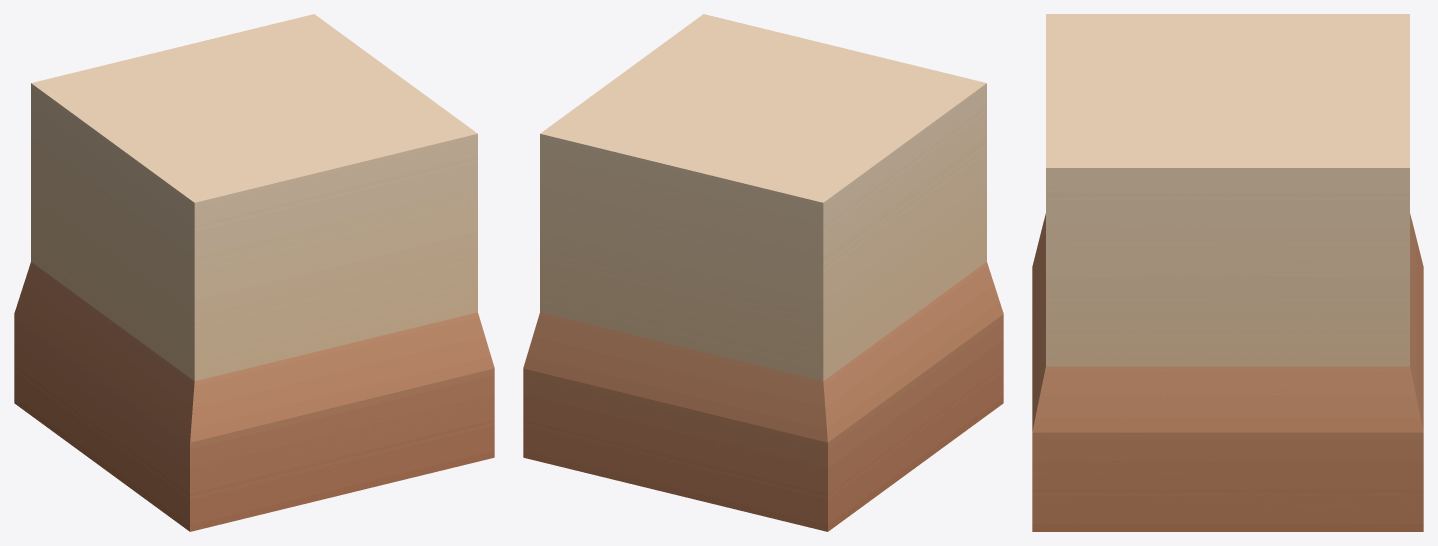
File: tower-square-base.glb
3 views of the same model, side by side, from view 1: azimuth 30°, elevation 25°; view 2: azimuth 150°, elevation 25°; view 3: azimuth 270°, elevation 25° (orthographic). The views are drawn at different scales.
Visible parts, largest first — view 1: tower-square-base; view 2: tower-square-base; view 3: tower-square-base.
Boxes of the visible parts, left/top/right/bottom form: tower-square-base: left=14, top=14, right=494, bottom=531; tower-square-base: left=523, top=14, right=1003, bottom=531; tower-square-base: left=1032, top=14, right=1423, bottom=531.
Size of the model in its own units: 1 by 1.01 by 1.
Materials: 1 (1 with a texture image).
